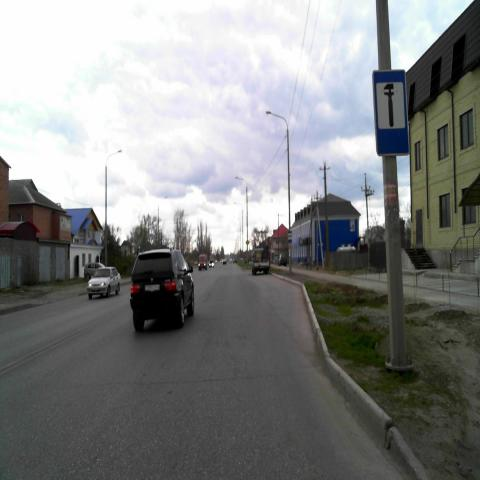7_4: (373, 70, 410, 157)
